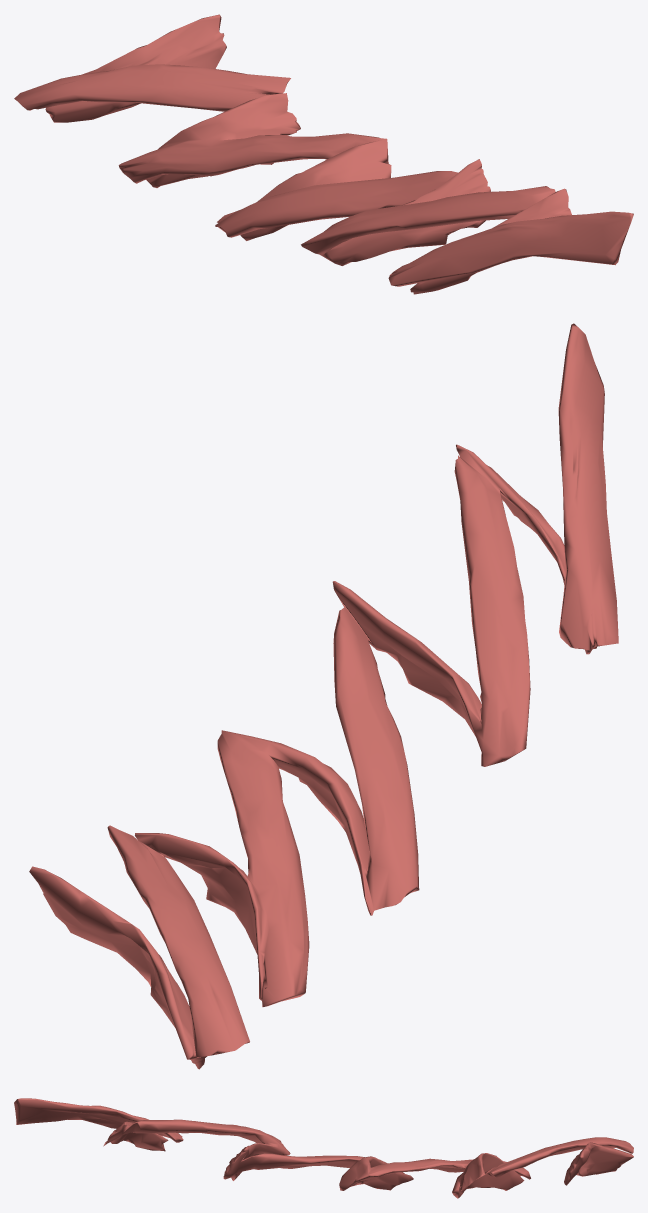
3 renders of one model, top to bottom at view 1: azimuth 30°, elevation 25°; view 2: azimuth 150°, elevation 25°; view 3: azimuth 270°, elevation 25°, orthographic. The views are drawn at different scales.
Parts seen in each view (by area): view 1: 右侧腰多裂肌; view 2: 右侧腰多裂肌; view 3: 右侧腰多裂肌.
Boxes of the visible parts, x1=… form: 右侧腰多裂肌: x1=14, y1=14, x2=633, y2=294; 右侧腰多裂肌: x1=29, y1=323, x2=618, y2=1069; 右侧腰多裂肌: x1=14, y1=1098, x2=633, y2=1198.
Size of the model in its own units: 0.0628 by 0.0583 by 0.2379.
